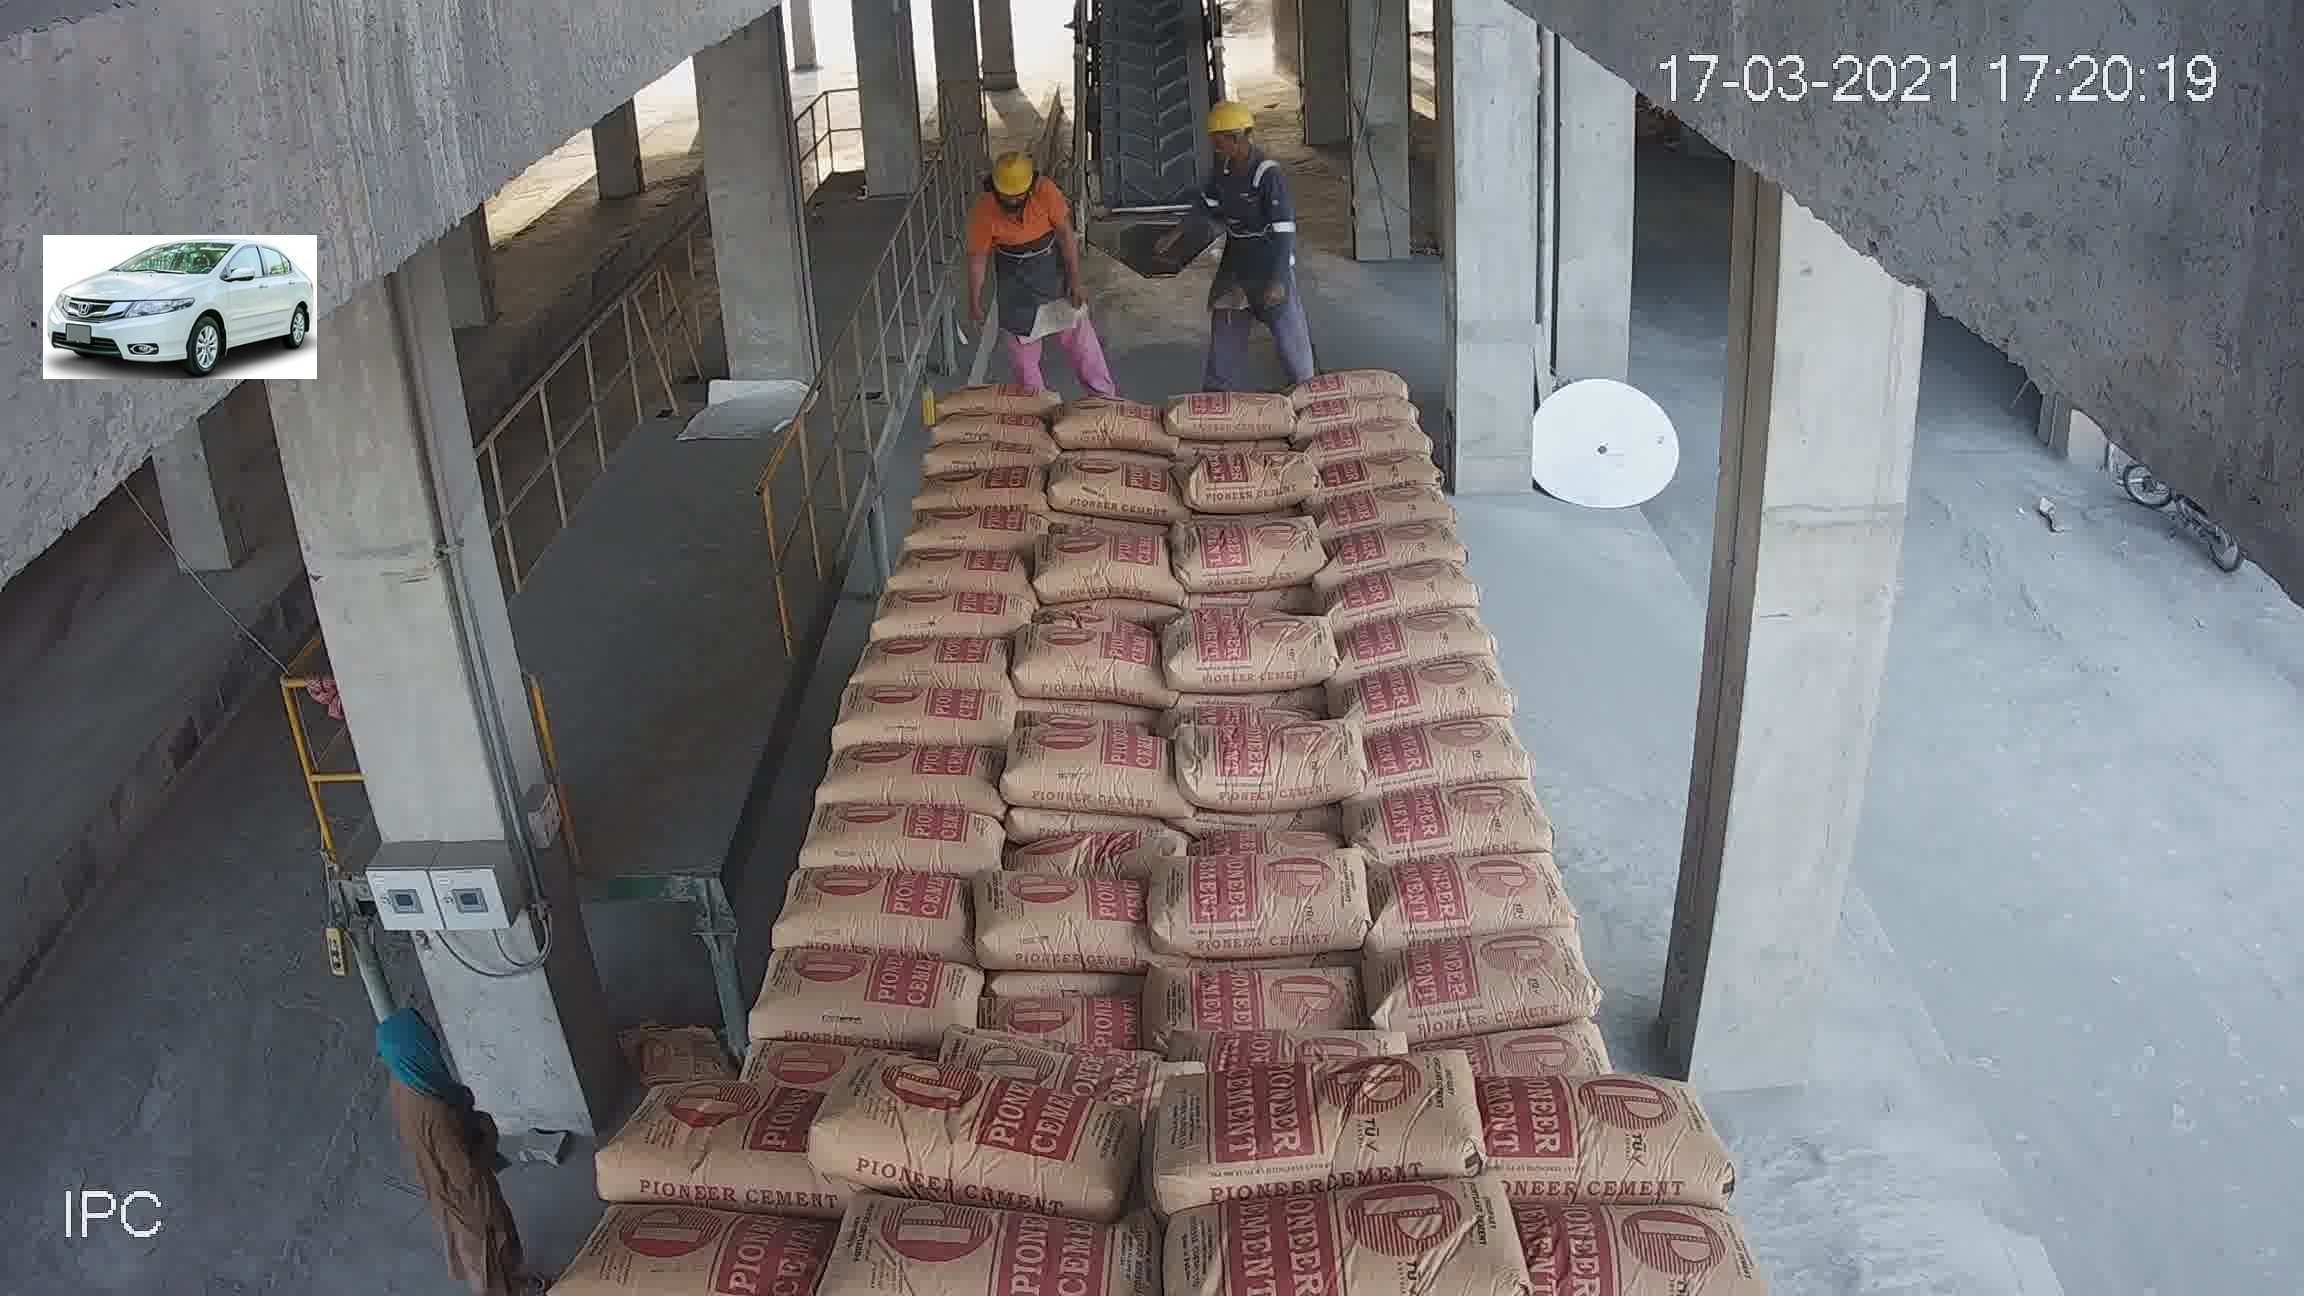bag: (1103, 415, 1226, 611), (1082, 33, 1203, 153)
bag_h: (1130, 1043, 1521, 1211), (1154, 907, 1465, 1081), (1173, 1163, 1549, 1296), (786, 1078, 1161, 1207), (1499, 1060, 1737, 1222), (1492, 1190, 1813, 1296), (862, 961, 1169, 1071), (1453, 949, 1711, 1081), (623, 953, 877, 1081), (533, 1190, 821, 1296), (585, 1089, 812, 1214), (1391, 851, 1649, 957), (839, 1209, 1161, 1291), (1141, 761, 1317, 861), (1155, 847, 1309, 946), (1176, 649, 1347, 731), (785, 801, 973, 869), (706, 916, 929, 968), (1192, 714, 1320, 802), (764, 870, 961, 923), (820, 623, 956, 684), (809, 687, 973, 734), (798, 741, 934, 788), (859, 578, 964, 631), (1347, 361, 1426, 421), (1356, 408, 1445, 460), (1090, 674, 1157, 723), (1339, 339, 1415, 378), (1324, 315, 1385, 350)
belt: (994, 32, 1317, 571)
